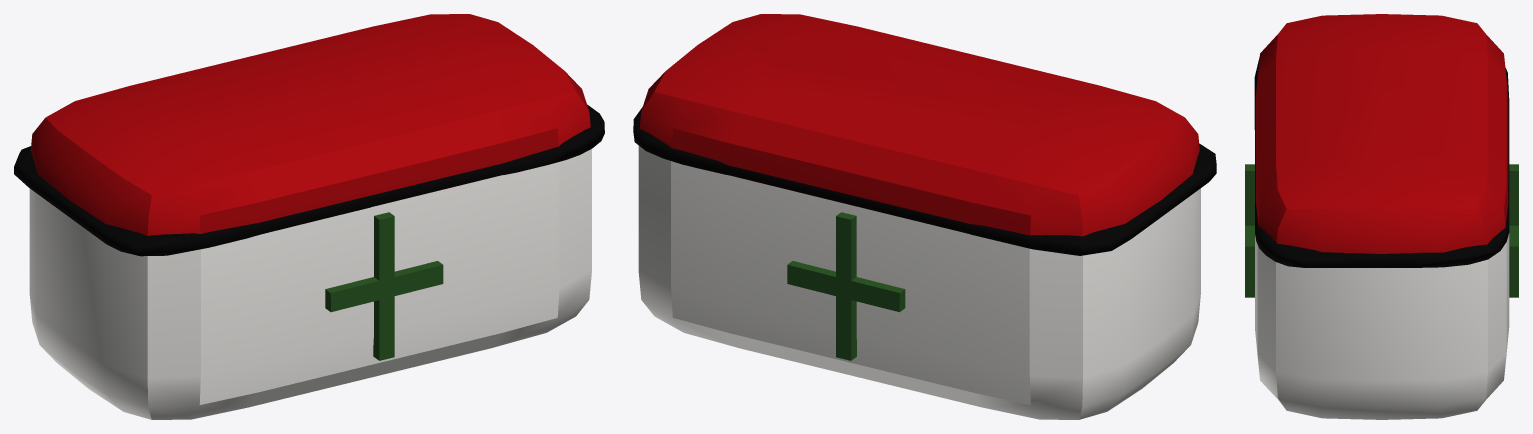
File: MedicKit.fbx
3 renders of one model, left to right at view 1: azimuth 30°, elevation 25°; view 2: azimuth 150°, elevation 25°; view 3: azimuth 270°, elevation 25°, orthographic. The views are drawn at different scales.
Parts seen in each view (by area): view 1: Cube, Cube.002, Cube.005, Cube.006; view 2: Cube, Cube.002, Cube.003, Cube.004; view 3: Cube, Cube.002, Cube.003, Cube.006, Cube.004, Cube.005.
Boxes of the visible parts, x1,y1,x2,y2 form: Cube: (29, 14, 591, 419); Cube.002: (14, 104, 604, 256); Cube.005: (325, 261, 443, 312); Cube.006: (373, 212, 394, 360); Cube: (638, 14, 1200, 419); Cube.002: (633, 107, 1216, 255); Cube.003: (836, 212, 856, 360); Cube.004: (787, 261, 905, 312); Cube: (1255, 14, 1509, 419); Cube.002: (1254, 57, 1509, 267); Cube.003: (1509, 164, 1518, 297); Cube.006: (1245, 164, 1254, 297); Cube.004: (1509, 225, 1518, 263); Cube.005: (1245, 225, 1254, 263).
Bounding box in the file's own units: 101 × 50 × 53.85.
